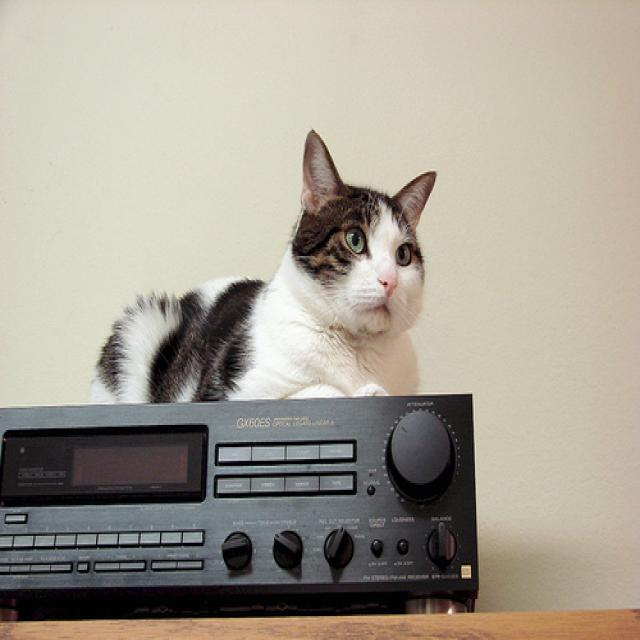cat: (90, 127, 438, 404)
